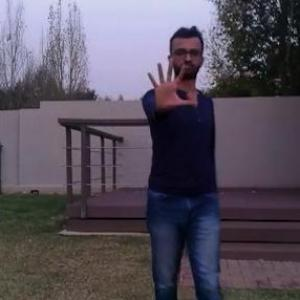follow_hand: (142, 56, 199, 110)
